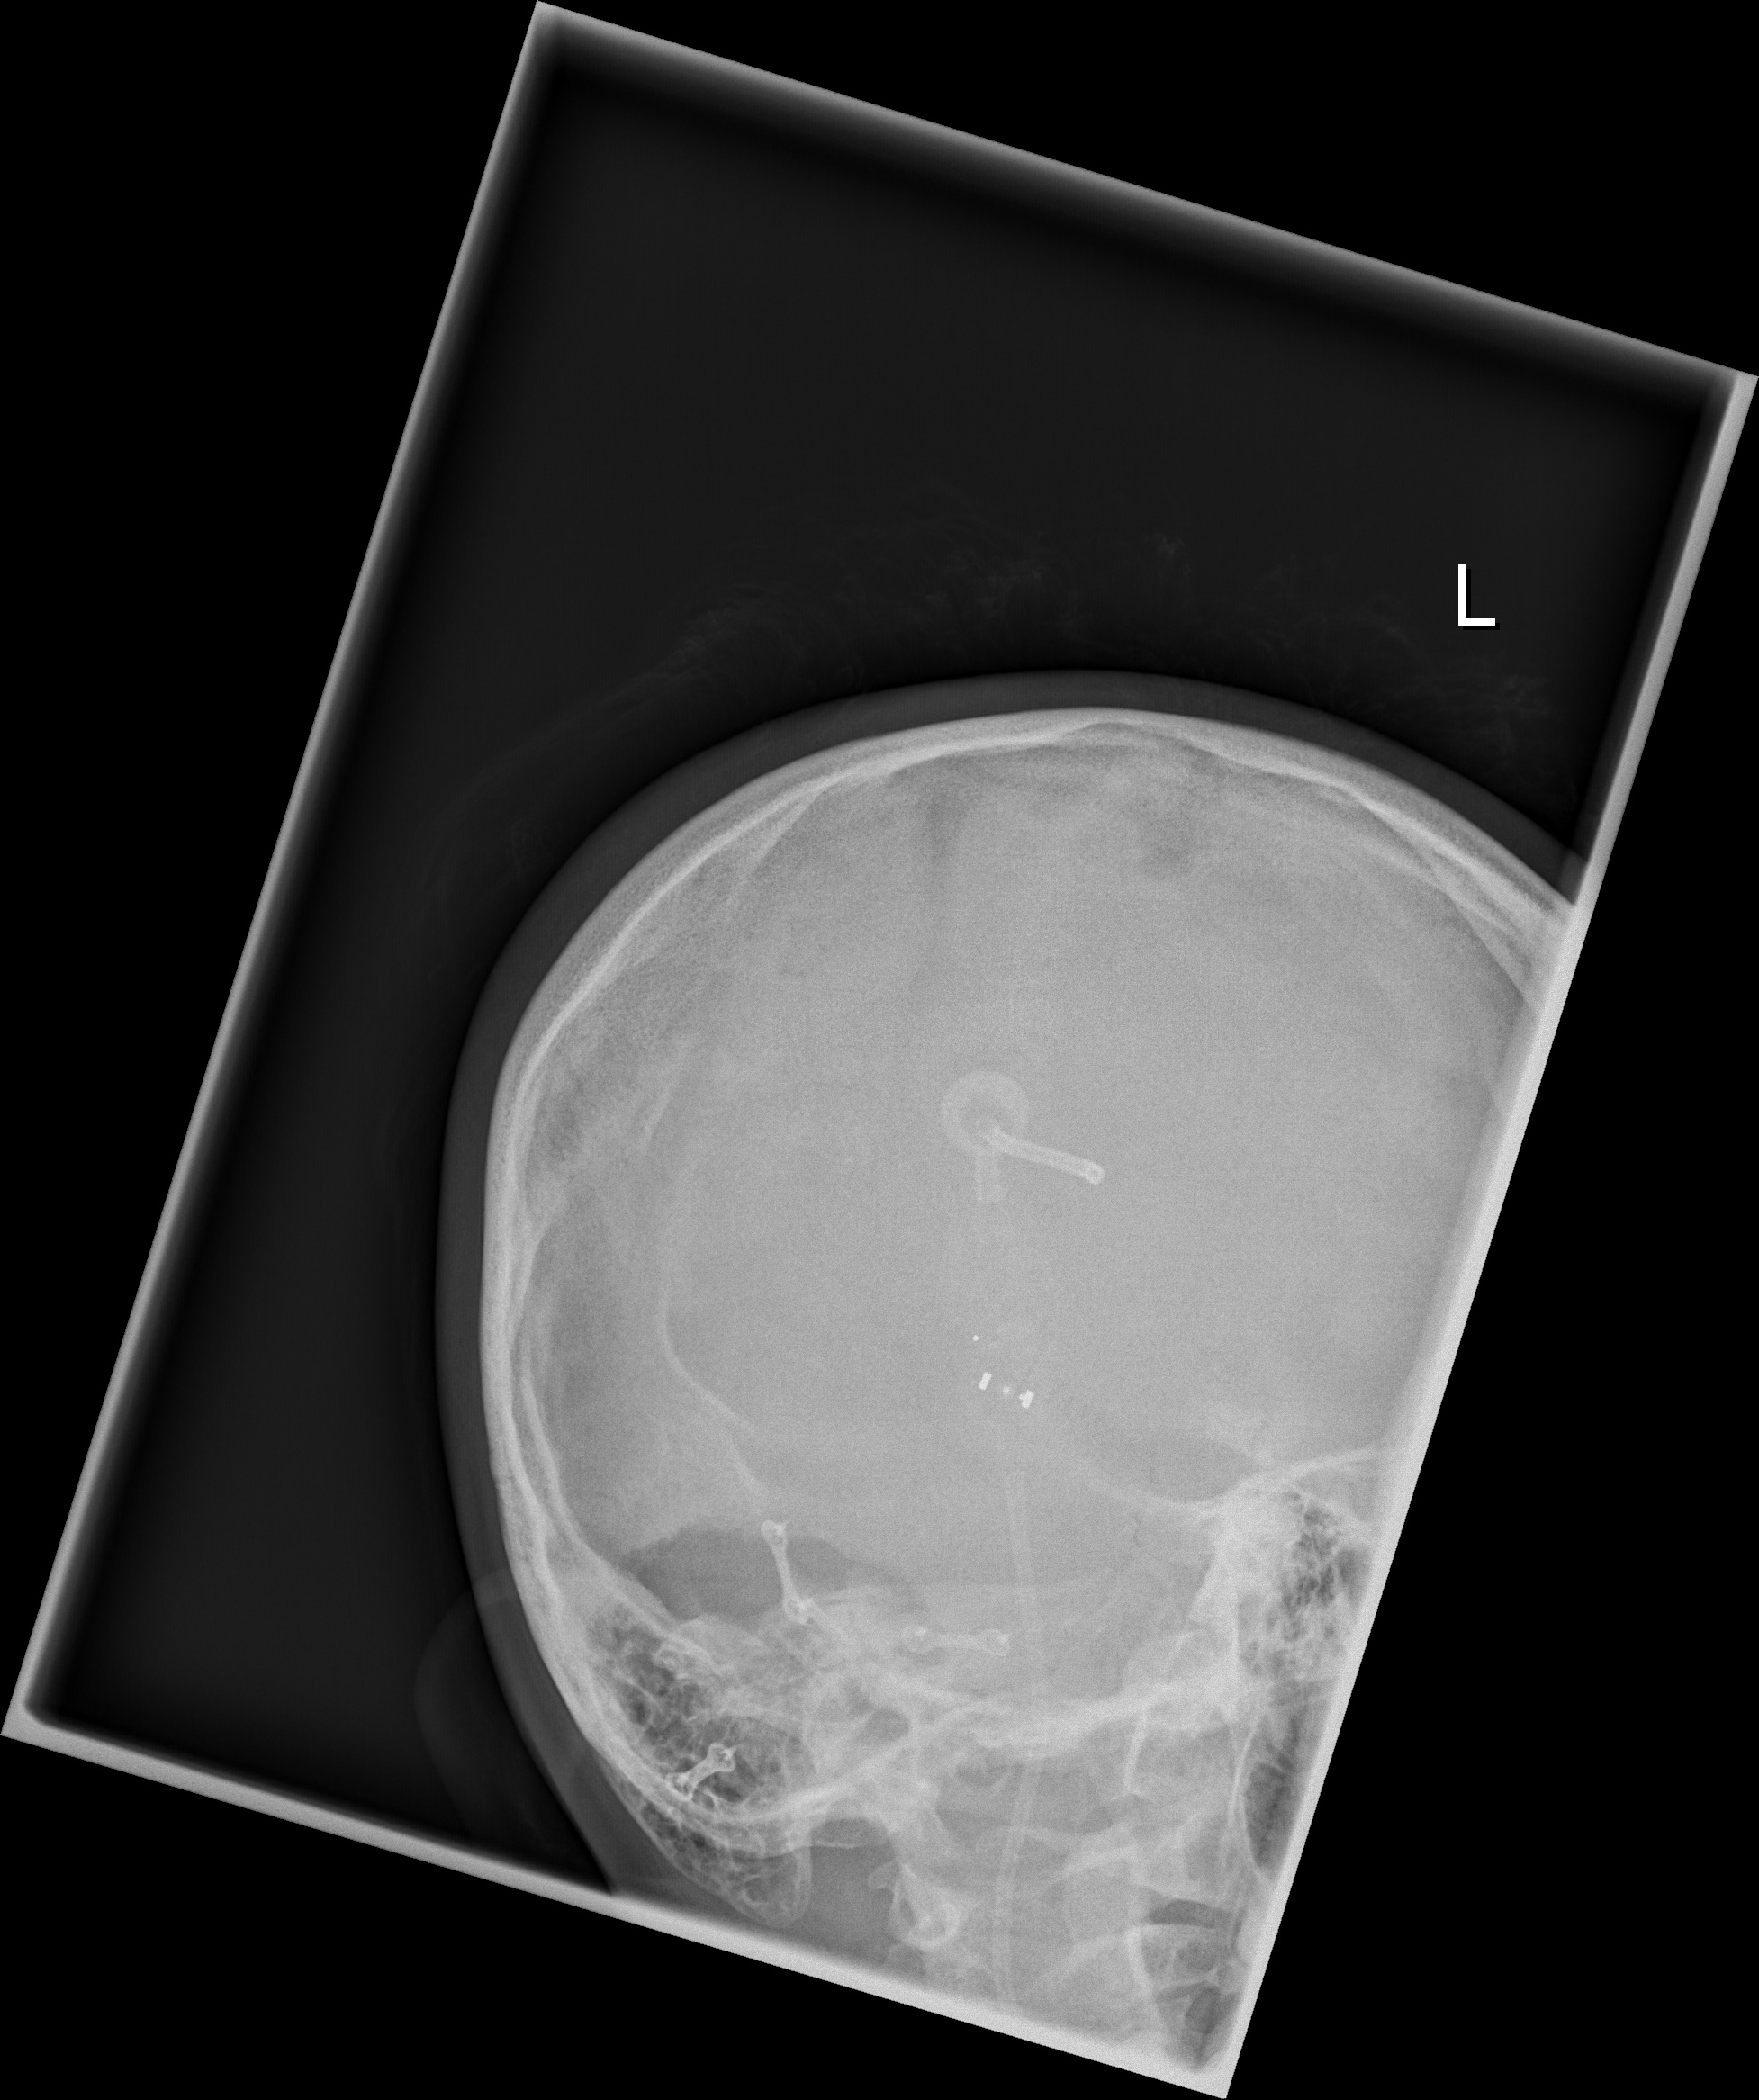Codman Certas: (935, 1308, 1071, 1453)
